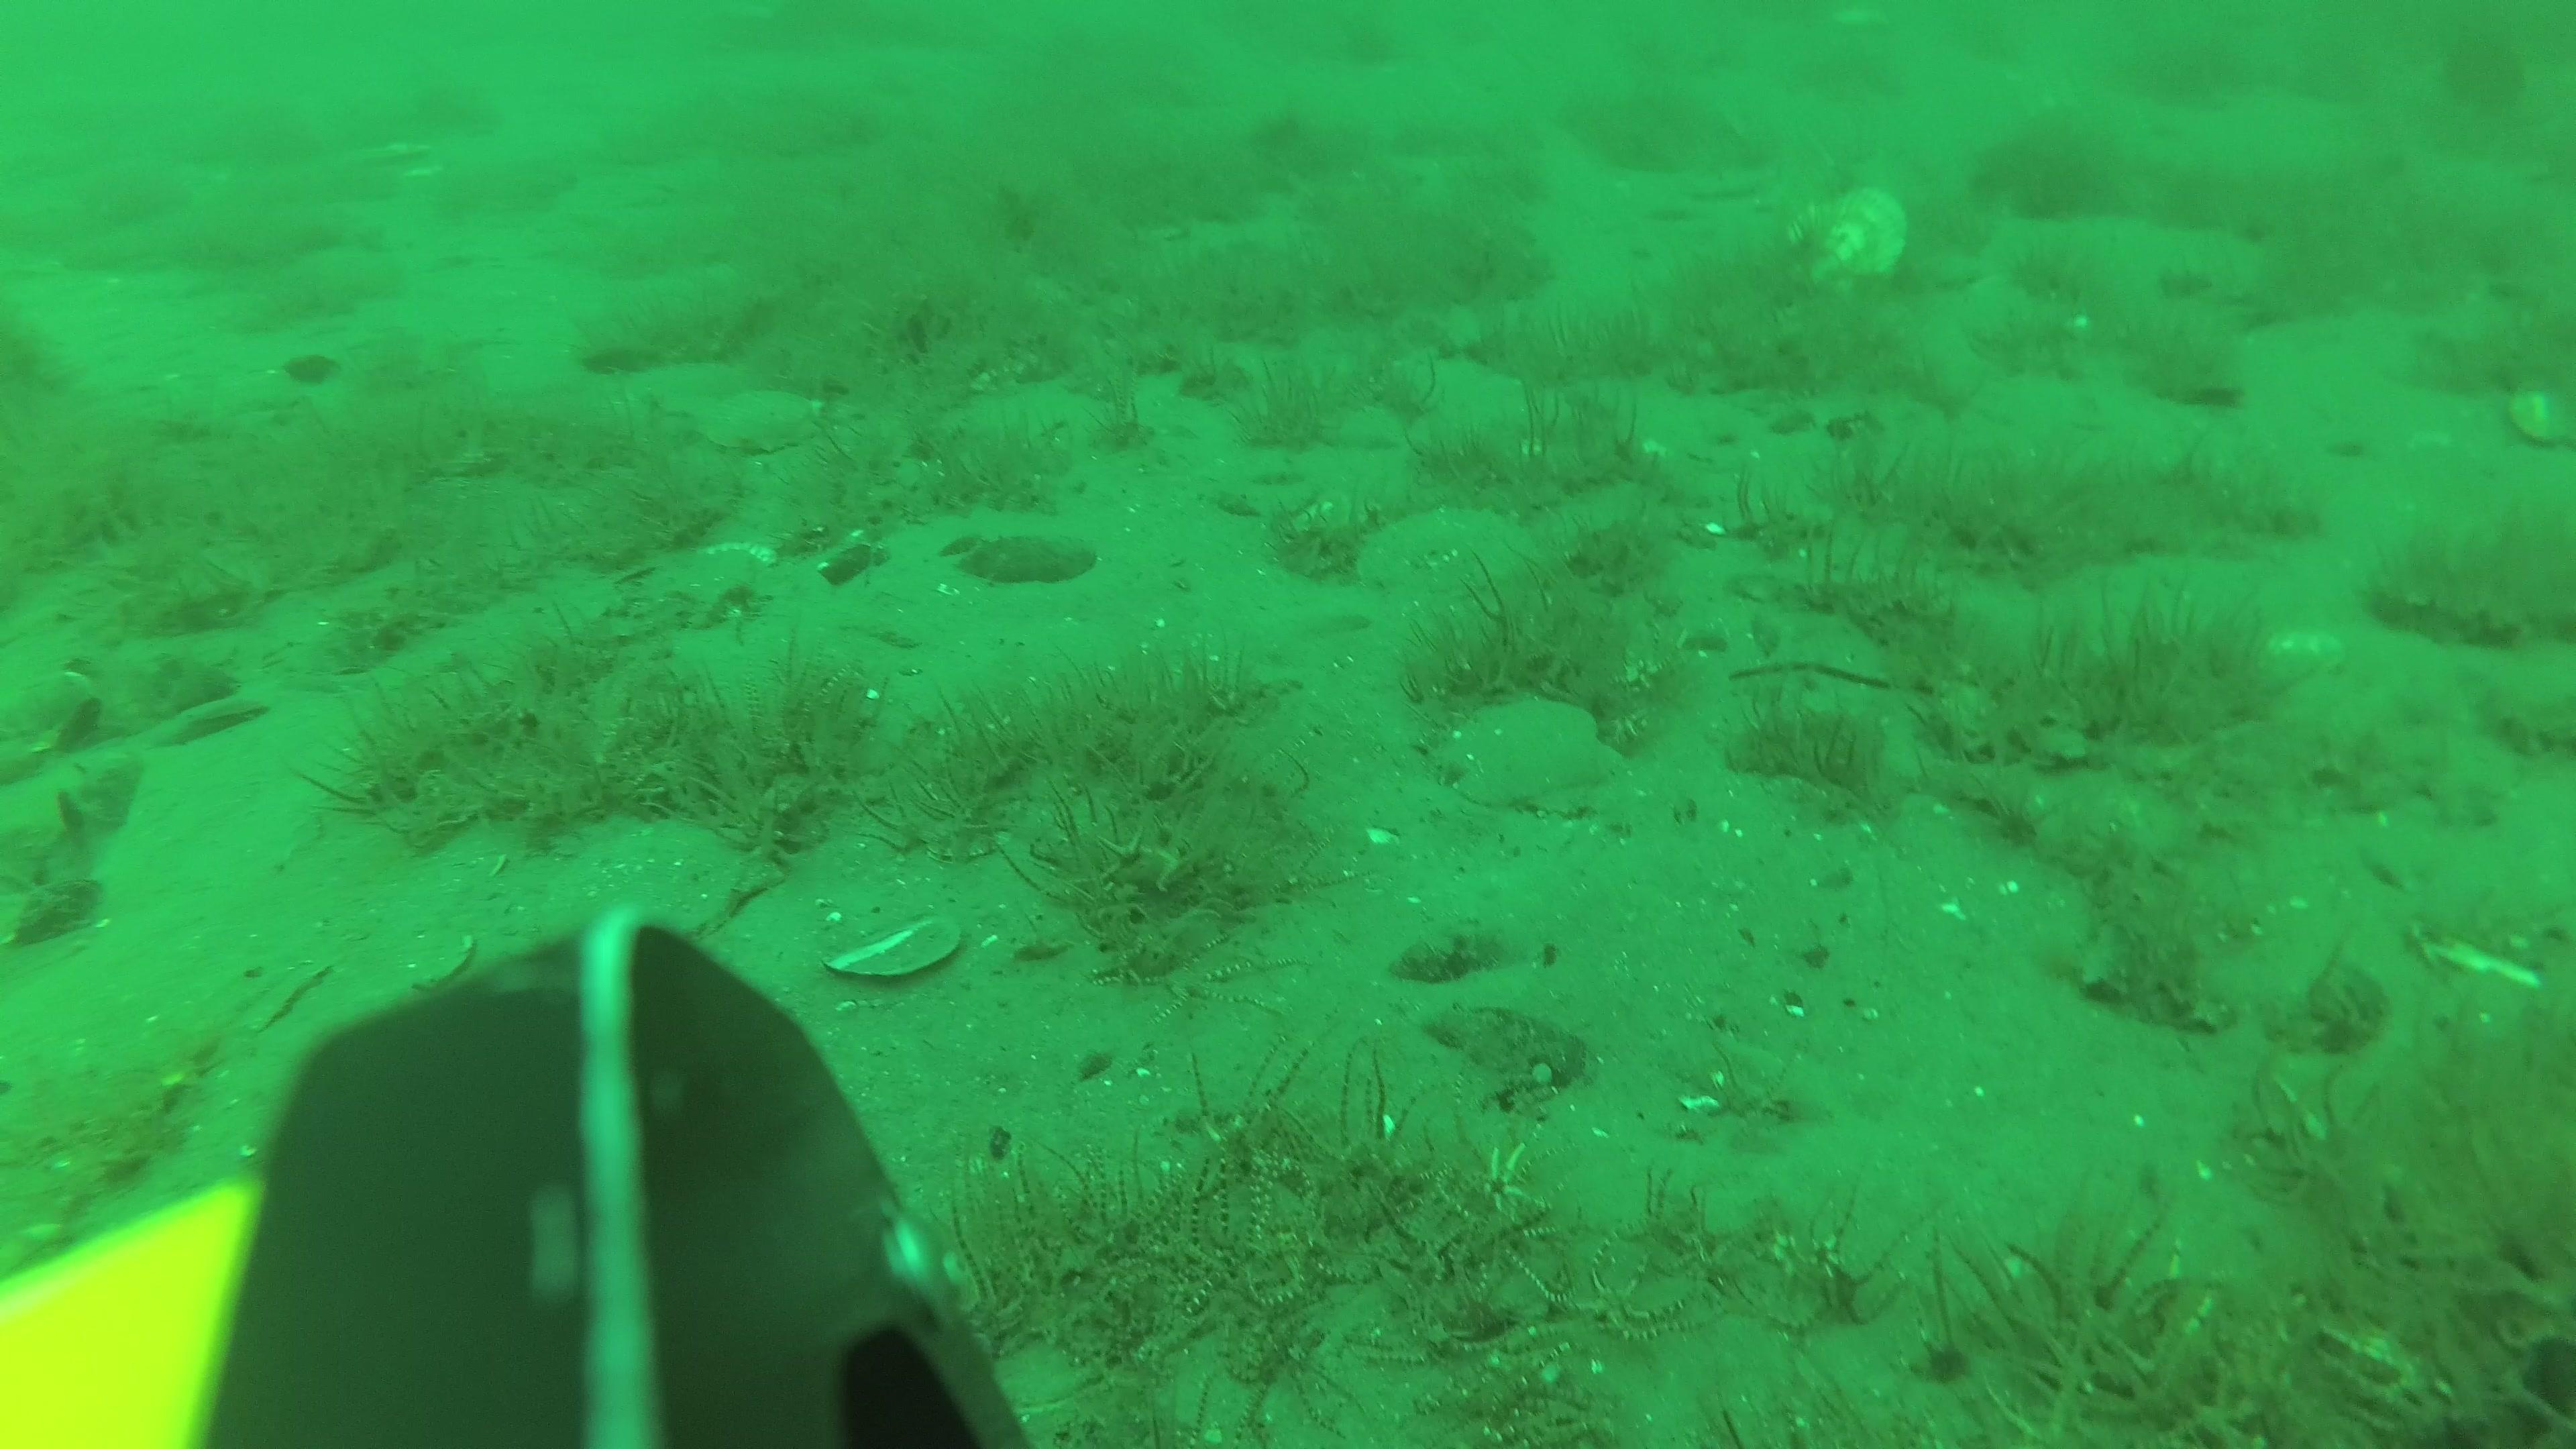scallop: (550, 830, 789, 968), (1437, 697, 1619, 809), (1790, 189, 1905, 287), (694, 389, 819, 453), (2512, 386, 2574, 446), (1826, 7, 1895, 35)
